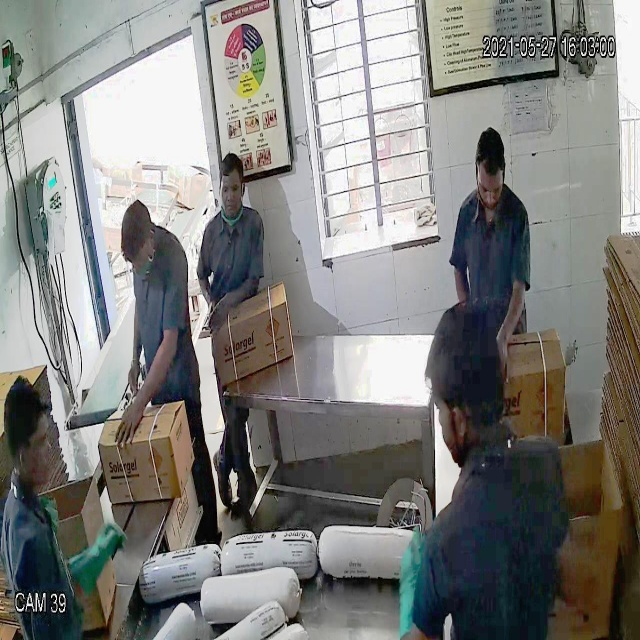Sin_gafas: (473, 171, 510, 204), (213, 178, 249, 204)
